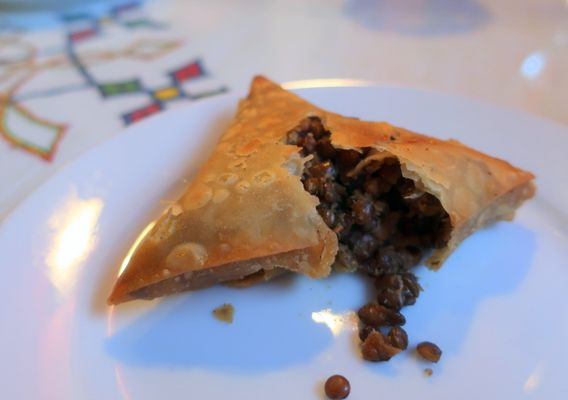soup: (106, 74, 547, 310)
